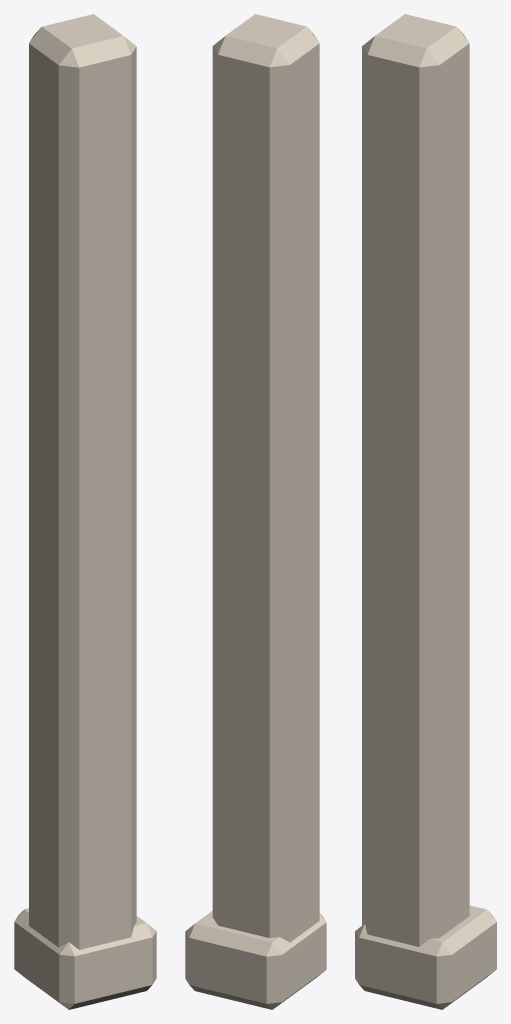
File: SM_VK_InnerCorner_PlasterUp.fbx
3 views of the same model, side by side, from view 1: azimuth 30°, elevation 25°; view 2: azimuth 150°, elevation 25°; view 3: azimuth 330°, elevation 25° (orthographic).
Visible parts, largest first — view 1: SM_VK_InnerCorner_PlasterUp.001; view 2: SM_VK_InnerCorner_PlasterUp.001; view 3: SM_VK_InnerCorner_PlasterUp.001.
Boxes of the visible parts, left/top/right/bottom form: SM_VK_InnerCorner_PlasterUp.001: left=14, top=14, right=156, bottom=1009; SM_VK_InnerCorner_PlasterUp.001: left=185, top=14, right=326, bottom=1009; SM_VK_InnerCorner_PlasterUp.001: left=355, top=14, right=496, bottom=1009.
Bounding box in the file's own units: 0.3 × 2.82 × 0.3.
